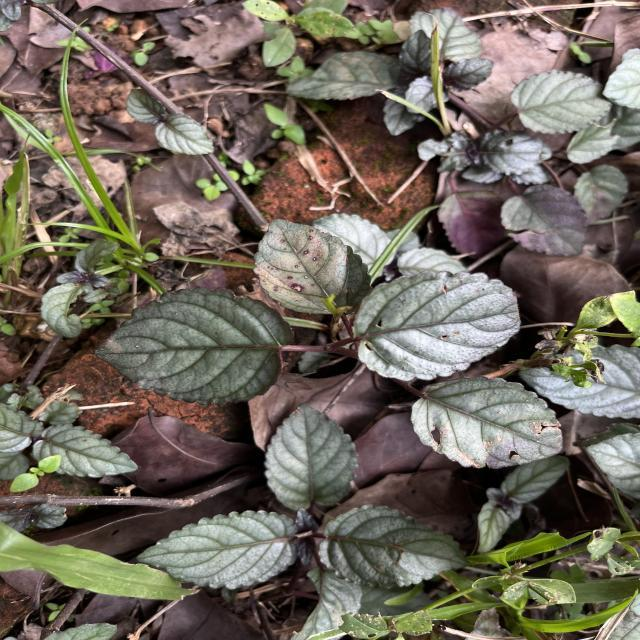Hemigraphis colorata: (90, 284, 298, 409), (348, 266, 526, 384), (408, 372, 566, 472), (314, 500, 476, 592), (132, 506, 302, 592), (251, 217, 375, 318), (261, 398, 360, 512), (507, 68, 614, 137), (28, 420, 140, 480), (152, 111, 218, 158), (124, 82, 168, 127)
